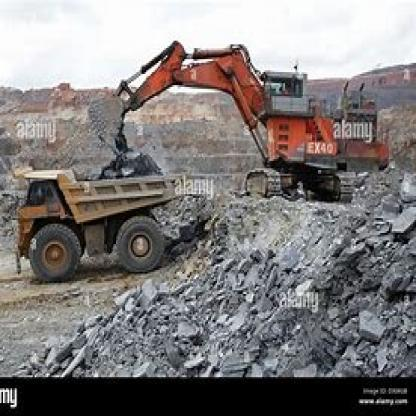dump_truck: (12, 157, 193, 287)
excavator: (85, 28, 400, 209)
